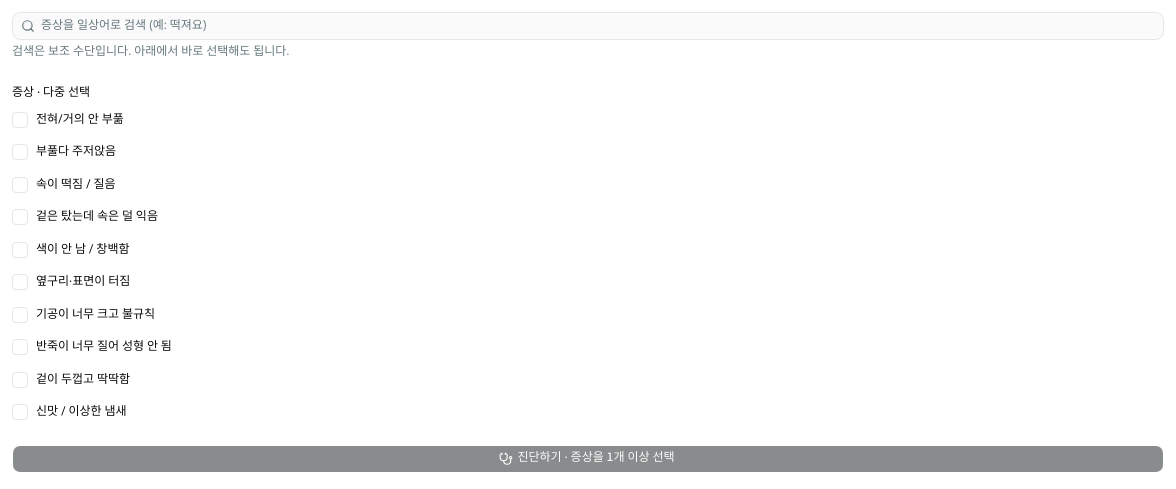
Test: SymptomChecklist — 증상 검색 › 사전에 없는 검색어(우주선) → 일치하는 증상 없음 안내가 표시된다
Type "우주선" into the field with placeholder "증상을 일상어로 검색 (예: 떡져요)" at (599, 26), box left=35, top=12, right=1163, bottom=40
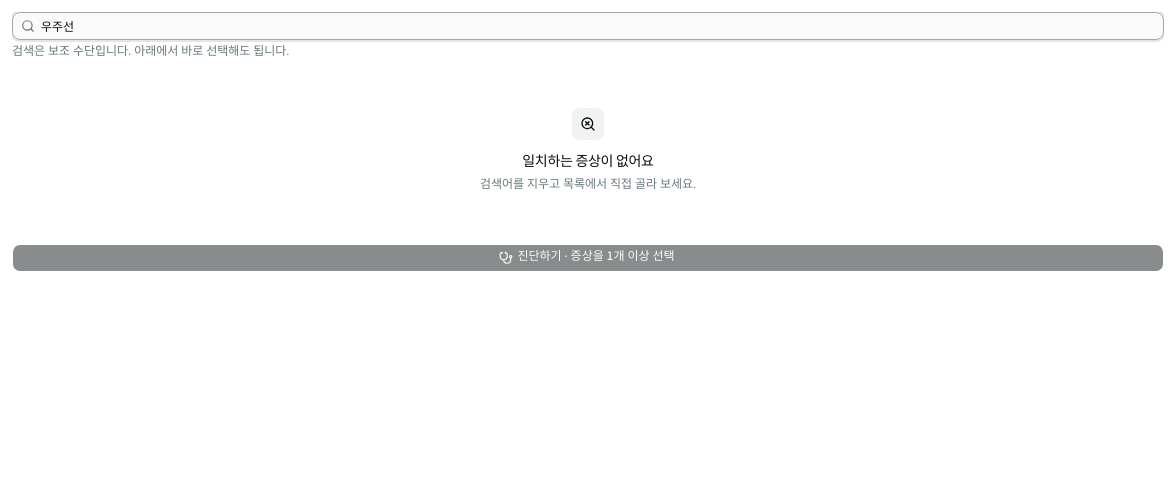
Expected: the text "일치하는 증상이 없어요" is shown, left=522, top=152, right=654, bottom=172
